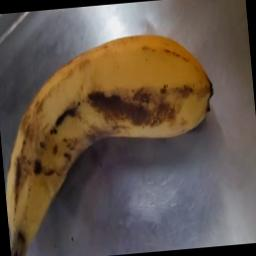Banana Overripe: (5, 36, 213, 256)
